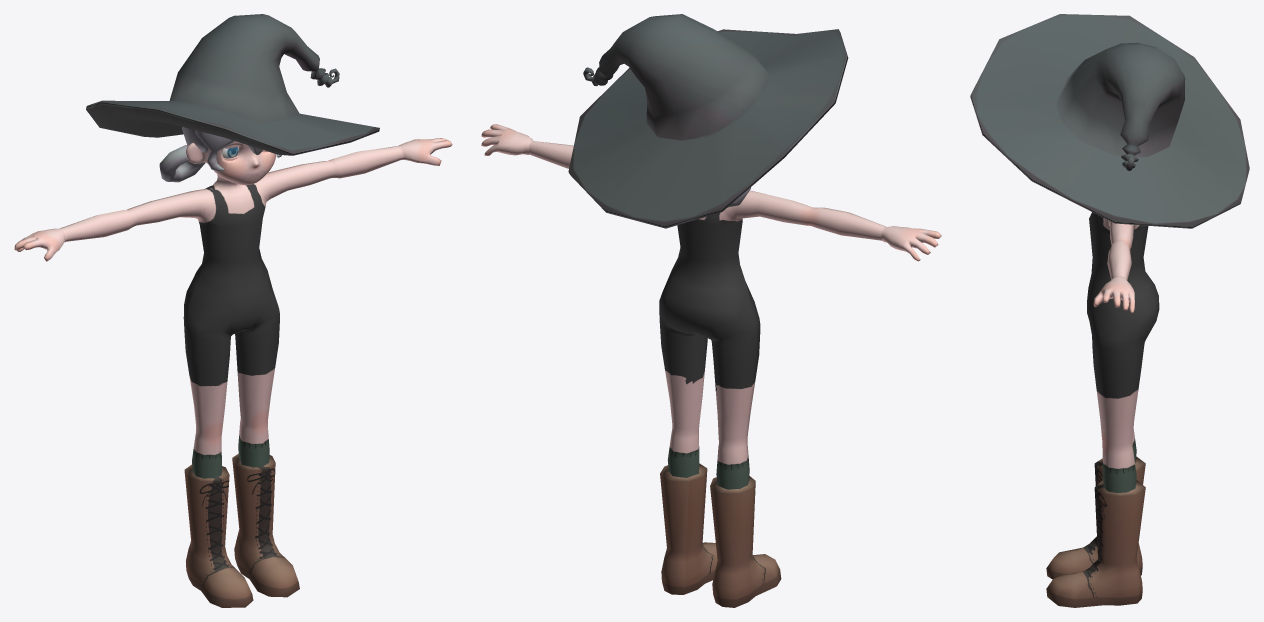
Rendered from witch_v1.fbx.
The picture shows the model from 3 angles, left to right: view 1: azimuth 30°, elevation 25°; view 2: azimuth 150°, elevation 25°; view 3: azimuth 270°, elevation 25°; orthographic projection. The views are drawn at different scales.
Parts seen in each view (by area): view 1: body, hat, shoes, sidetail, sidebang; view 2: hat, body, shoes; view 3: hat, body, shoes.
Part boxes in pixels (x1=…): body: x1=14, y1=138, x2=452, y2=478; hat: x1=86, y1=14, x2=379, y2=155; shoes: x1=184, y1=454, x2=299, y2=607; sidetail: x1=159, y1=145, x2=205, y2=182; sidebang: x1=195, y1=130, x2=281, y2=171; hat: x1=568, y1=14, x2=848, y2=228; body: x1=481, y1=124, x2=941, y2=489; shoes: x1=660, y1=463, x2=781, y2=607; hat: x1=970, y1=14, x2=1249, y2=228; body: x1=1087, y1=212, x2=1159, y2=492; shoes: x1=1046, y1=456, x2=1145, y2=607.
Bounding box in the file's own units: 11.56 × 13.9 × 6.37.
1 material, 1 textured.
